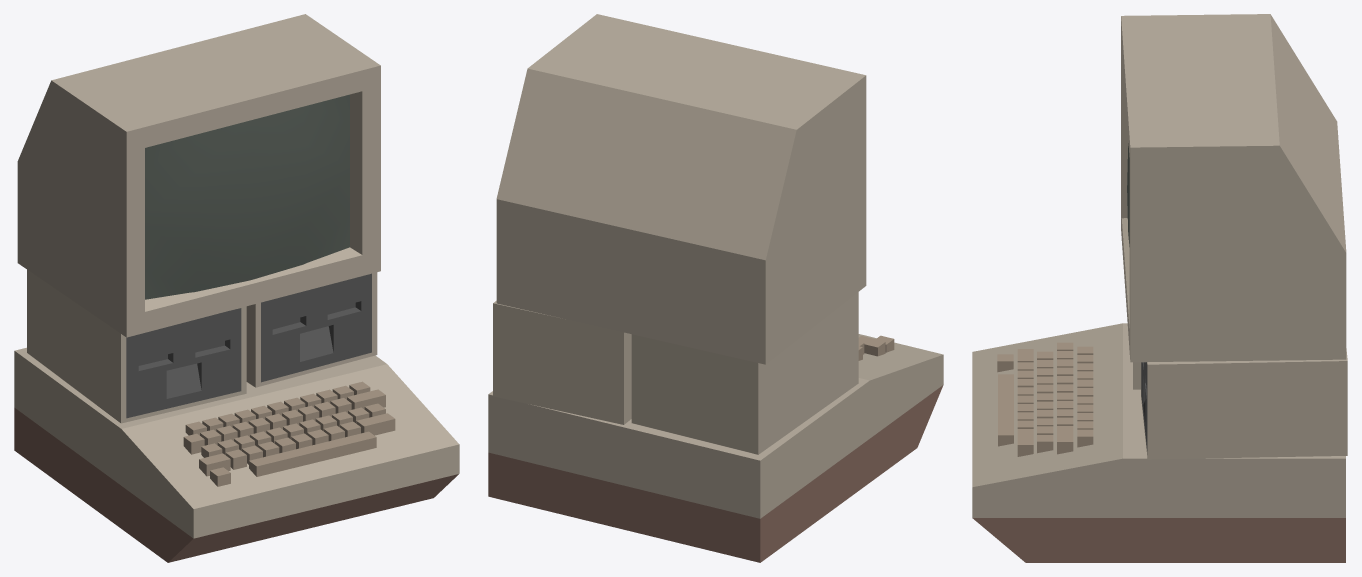
3 views of the same model, side by side, from view 1: azimuth 30°, elevation 25°; view 2: azimuth 150°, elevation 25°; view 3: azimuth 270°, elevation 25° (orthographic). The views are drawn at different scales.
Visible parts, largest first — view 1: pc; view 2: pc; view 3: pc.
Part boxes in pixels (left/top/right/bottom): pc: left=14, top=14, right=459, bottom=562; pc: left=488, top=14, right=943, bottom=562; pc: left=972, top=14, right=1347, bottom=562.
Size of the model in its own units: 56.03 by 79.05 by 65.02.
